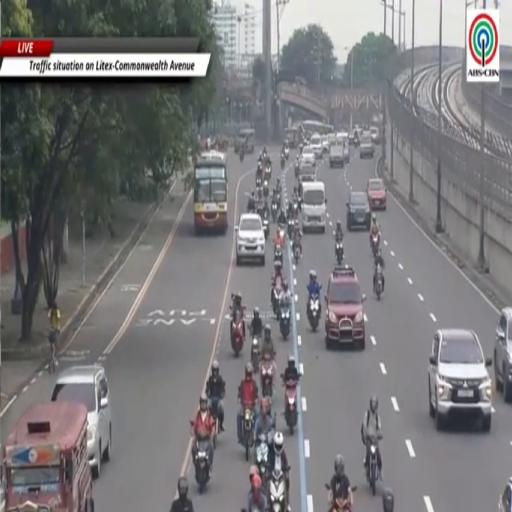bus: (194, 152, 227, 234), (300, 121, 334, 135), (285, 127, 298, 148)
car: (51, 364, 112, 477), (429, 329, 492, 431), (325, 266, 365, 349), (494, 308, 511, 402), (236, 214, 265, 265), (346, 191, 371, 231), (367, 179, 386, 210), (498, 477, 512, 512), (329, 144, 345, 168), (300, 145, 316, 166), (360, 135, 374, 158), (310, 134, 323, 158), (369, 126, 381, 145), (349, 128, 360, 147), (336, 132, 348, 145), (322, 135, 330, 153), (344, 144, 350, 164), (328, 133, 335, 146)
jeepney: (3, 403, 94, 511)
motorcycle: (194, 437, 209, 493), (367, 436, 381, 495), (255, 434, 269, 493), (269, 469, 287, 511), (325, 484, 351, 511), (285, 380, 297, 435), (231, 311, 244, 356), (243, 408, 254, 461), (210, 397, 220, 449), (261, 354, 273, 397), (308, 295, 320, 331), (279, 306, 291, 340), (272, 281, 281, 316), (375, 265, 383, 299), (251, 336, 259, 367), (370, 233, 380, 257), (262, 211, 269, 238), (293, 242, 301, 264), (336, 242, 344, 264), (274, 246, 282, 264), (271, 202, 278, 222), (278, 223, 286, 239), (275, 178, 282, 194), (264, 165, 271, 181), (263, 181, 269, 198), (293, 200, 299, 217), (288, 218, 293, 238), (280, 154, 285, 170), (256, 176, 262, 187), (295, 163, 299, 178), (240, 151, 244, 163), (299, 142, 303, 154), (285, 148, 289, 159)
